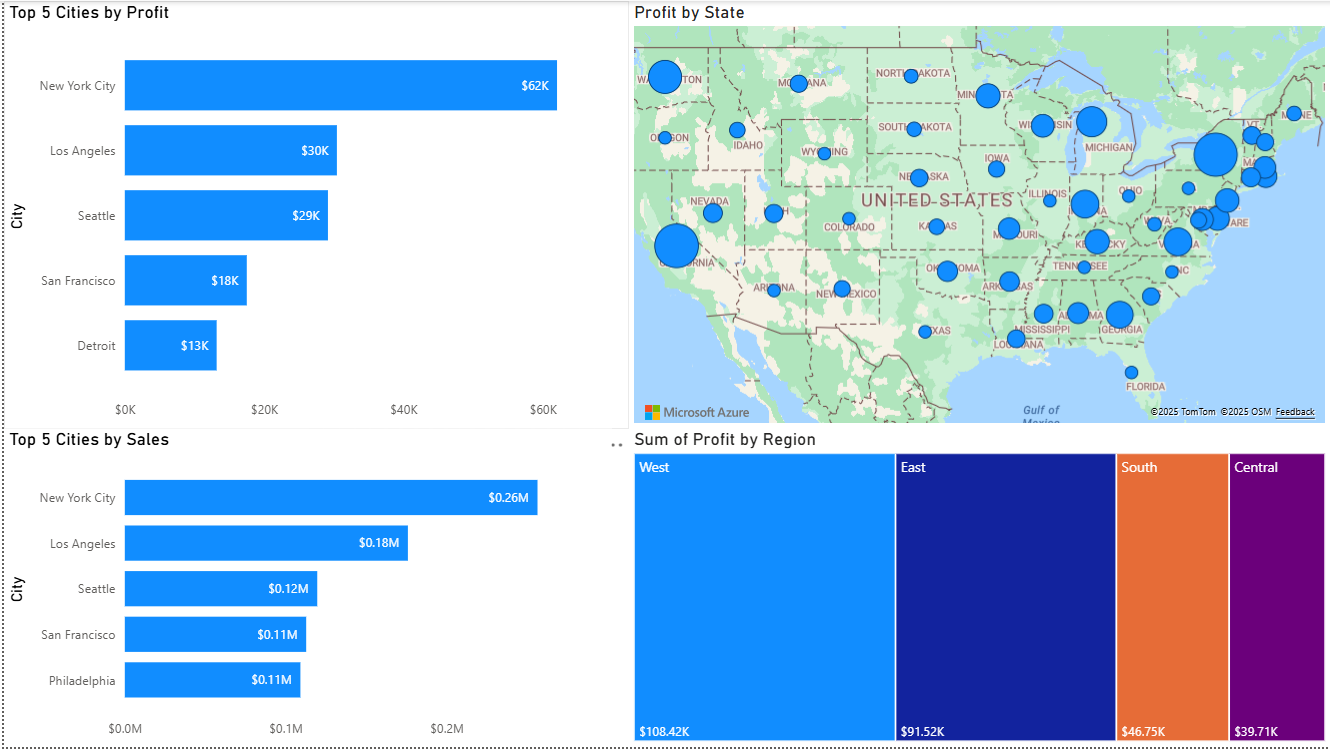

This screenshot's page, from the dashboard's own definition file:
{"tool":"powerbi","page":{"name":"Geo","canvas":[1280,720],"ordinal":3},"visuals":[{"type":"azureMap","title":"Profit by State","fields":{"Category":["dataset-superstore.Country","dataset-superstore.State"],"Size":["Sum(dataset-superstore.Profit)"]},"box":[603.2,0,676.8,412.6],"z":0},{"type":"clusteredBarChart","title":"Top 5 Cities by Profit ","fields":{"Category":["dataset-superstore.City"],"Y":["Sum(dataset-superstore.Profit)"]},"box":[0,0,603.2,412.6],"z":1},{"type":"clusteredBarChart","title":"Top 5 Cities by Sales","fields":{"Category":["dataset-superstore.City"],"Y":["Sum(dataset-superstore.Sales)"]},"box":[0,412.6,586.3,307.6],"z":2},{"type":"treemap","fields":{"Group":["dataset-superstore.Region"],"Values":["Sum(dataset-superstore.Profit)"]},"box":[603,413,677,307],"z":3}]}

Visuals, with their boxes in screenshot pixels (x1, y1, x2, y2), scaled from the page's 1280x720 canvas onto the 1330x749 screenshot:
"Profit by State" azureMap: bbox(627, 0, 1329, 429)
"Top 5 Cities by Profit " clusteredBarChart: bbox(0, 0, 627, 429)
"Top 5 Cities by Sales" clusteredBarChart: bbox(0, 429, 609, 748)
treemap - dataset-superstore.Region x Sum(dataset-superstore.Profit): bbox(627, 430, 1329, 748)
